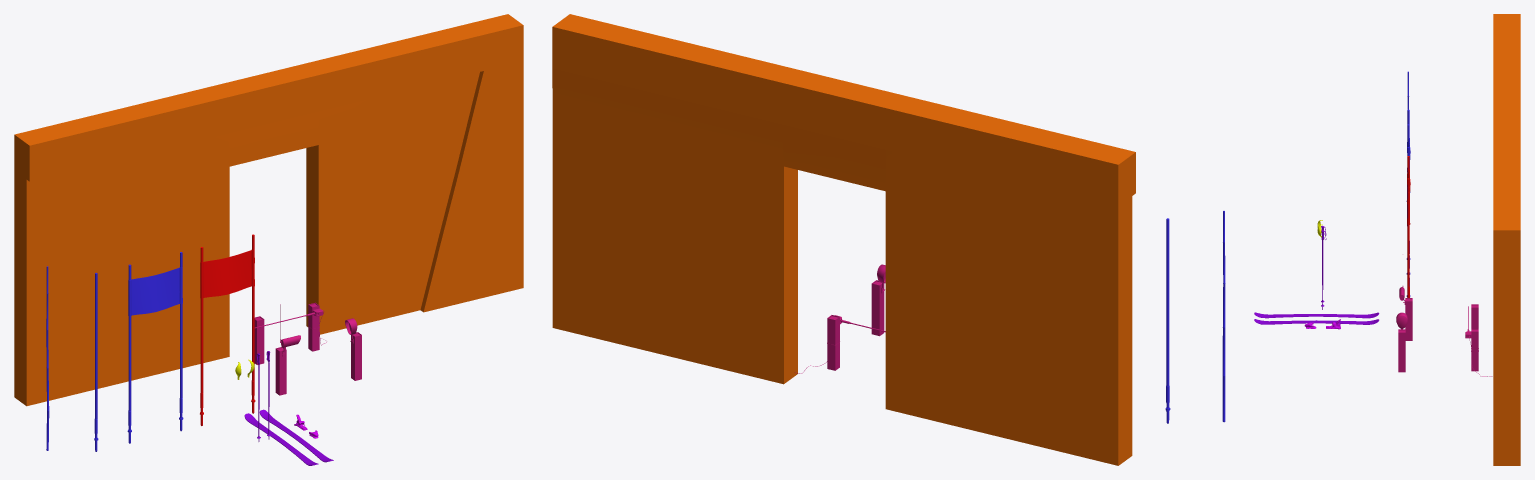
Rendered from Ski Package HARDWARE FBX.FBX.
The picture shows the model from 3 angles, left to right: view 1: azimuth 30°, elevation 25°; view 2: azimuth 150°, elevation 25°; view 3: azimuth 270°, elevation 25°; orthographic projection. The views are drawn at different scales.
Parts seen in each view (by area): view 1: Race Starting Gate, Gate_Flag BLUE, Gate_Flag RED, Start Post, Finish Post Camera, Finish Post Reflector, Gate_Pole, Bamboo Pole; view 2: Race Starting Gate, Finish Post Reflector, Gate_Pole, Start Post, Bamboo Pole; view 3: Race Starting Gate, Start Post, Finish Post Reflector, Snow Skis 170 cm RIGHT, Snow Skis 170 cm LEFT, Gate_Flag RED, Finish Post Camera.
Part boxes in pixels (x1,y1,x2,y2): Race Starting Gate: [14, 14, 523, 406]; Gate_Flag BLUE: [127, 252, 183, 443]; Gate_Flag RED: [200, 234, 255, 425]; Start Post: [254, 302, 326, 364]; Finish Post Camera: [275, 304, 300, 395]; Finish Post Reflector: [345, 318, 361, 380]; Gate_Pole: [94, 272, 98, 451]; Bamboo Pole: [46, 266, 49, 450]; Race Starting Gate: [552, 14, 1135, 465]; Finish Post Reflector: [871, 264, 885, 336]; Gate_Pole: [1165, 218, 1170, 423]; Start Post: [795, 315, 841, 373]; Bamboo Pole: [1222, 211, 1225, 422]; Race Starting Gate: [1493, 14, 1520, 465]; Start Post: [1465, 304, 1492, 376]; Finish Post Reflector: [1396, 312, 1407, 372]; Snow Skis 170 cm RIGHT: [1254, 312, 1379, 318]; Snow Skis 170 cm LEFT: [1254, 319, 1379, 324]; Gate_Flag RED: [1407, 156, 1410, 297]; Finish Post Camera: [1399, 286, 1412, 340].
Bounding box in the file's own units: 297 × 150 × 146.
